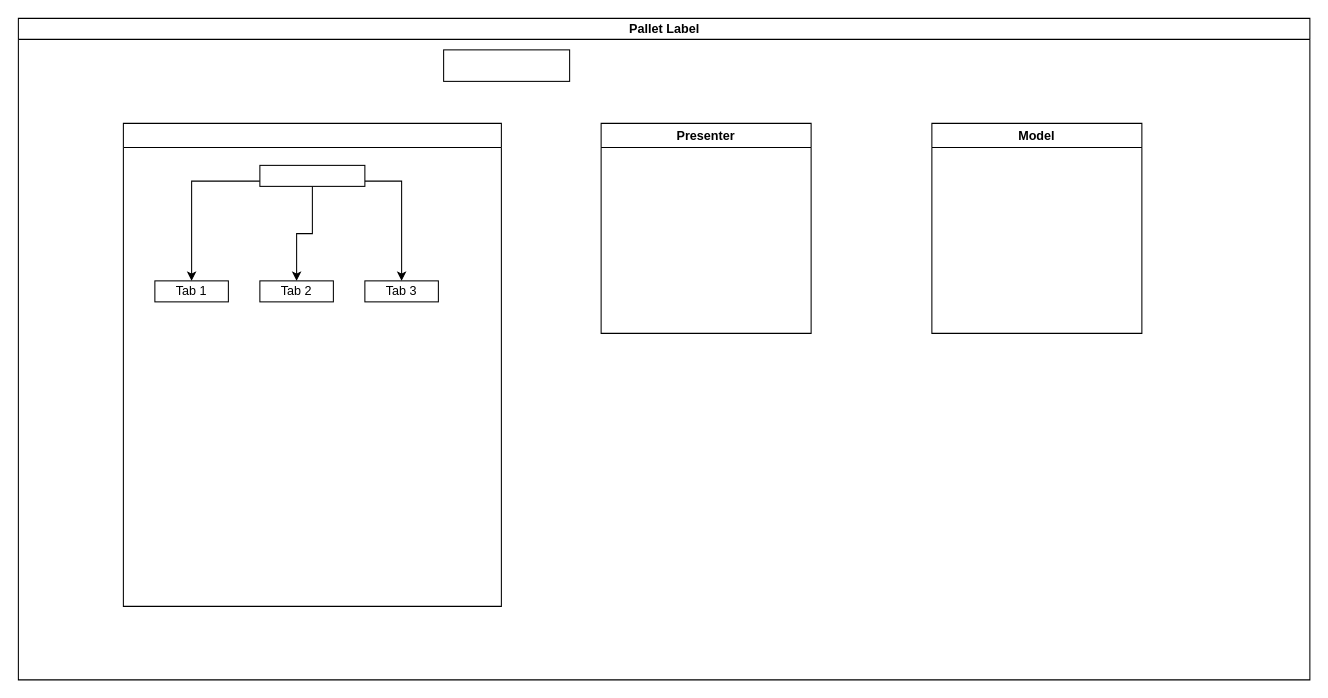
This 1328x698 diagram has some shape labels left out. Each missing label, with the box of its shape:
Application: (443, 49, 570, 81)
Base screen: (259, 164, 365, 186)
View: (122, 122, 501, 606)
